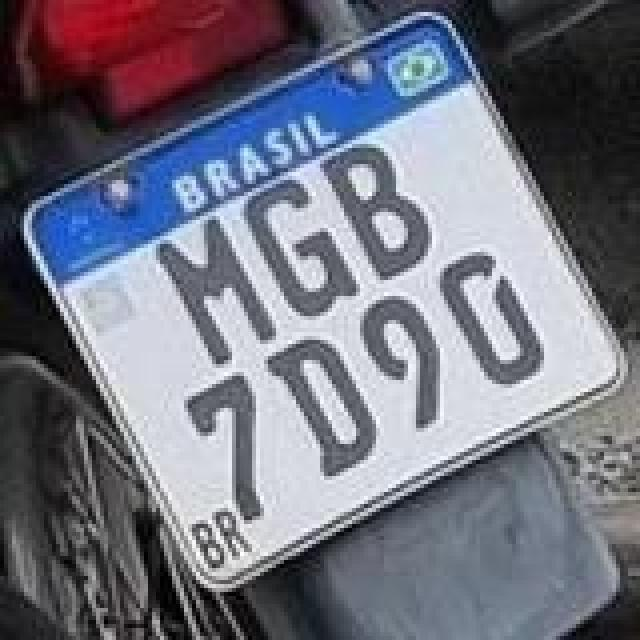7: (182, 372, 266, 524)
9: (356, 292, 444, 428)
B: (316, 136, 436, 280)
D: (264, 336, 384, 480), (434, 250, 550, 390)
G: (240, 178, 360, 318)
M: (152, 218, 280, 374)
